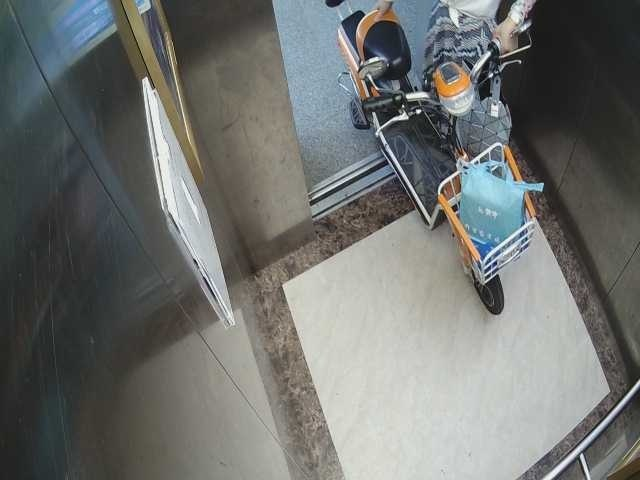emotor: (322, 3, 541, 311)
